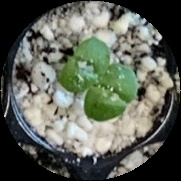Basil: (59, 35, 109, 89), (88, 65, 135, 121)
